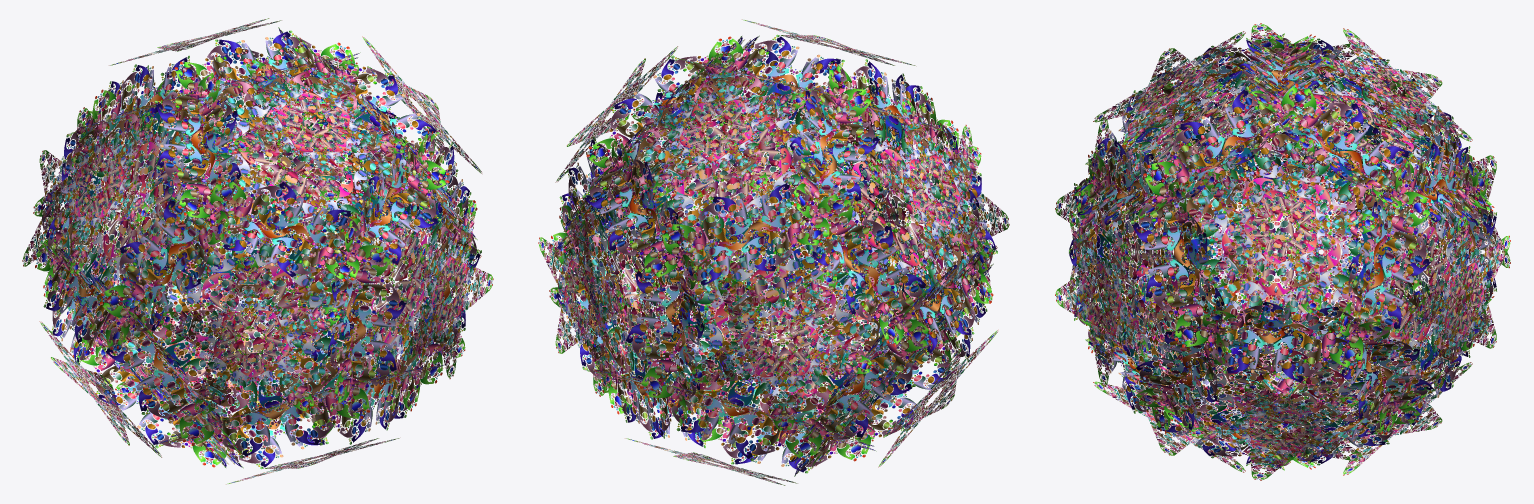
Rendered from SnubIcosidodecadodecahedron12.gltf.
3 views of the same model, side by side, from view 1: azimuth 30°, elevation 25°; view 2: azimuth 150°, elevation 25°; view 3: azimuth 270°, elevation 25° (orthographic).
Visible parts, largest first — view 1: SnubIcosidodecadodecahedron12; view 2: SnubIcosidodecadodecahedron12; view 3: SnubIcosidodecadodecahedron12.
Part boxes in pixels (x1,y1,x2,y2): SnubIcosidodecadodecahedron12: (22, 18, 493, 484); SnubIcosidodecadodecahedron12: (538, 19, 1009, 485); SnubIcosidodecadodecahedron12: (1055, 23, 1510, 480).
Size of the model in its own units: 2.21 by 2.21 by 2.21.
Materials: 1 (1 with a texture image).
